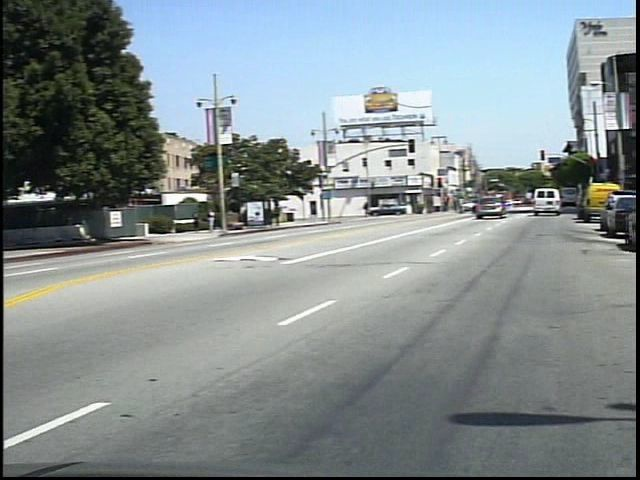person: (213, 207, 228, 236), (200, 209, 214, 235), (372, 201, 380, 217)
